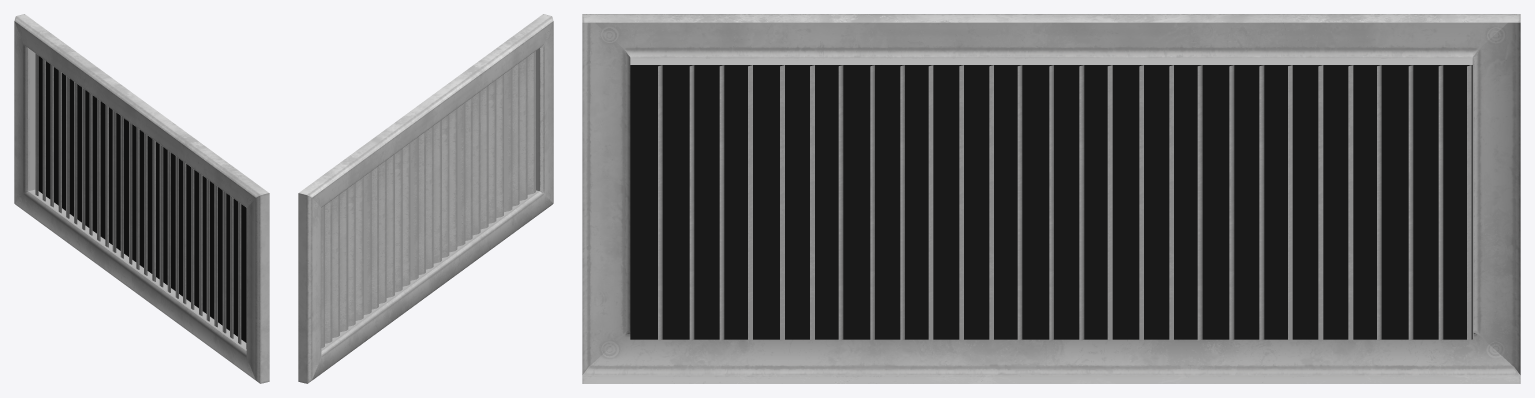
Rendered from SM_WallVent.fbx.
The picture shows the model from 3 angles, left to right: view 1: azimuth 30°, elevation 25°; view 2: azimuth 150°, elevation 25°; view 3: azimuth 270°, elevation 25°; orthographic projection. The views are drawn at different scales.
Visible parts, largest first — view 1: SM_WallVent_LOD0; view 2: SM_WallVent_LOD0; view 3: SM_WallVent_LOD0.
Boxes of the visible parts, box(x1,y1,x2,y2) form: SM_WallVent_LOD0: box(14, 14, 269, 383); SM_WallVent_LOD0: box(298, 14, 553, 383); SM_WallVent_LOD0: box(582, 14, 1520, 383).
Bounding box in the file's own units: 2.17 × 74.46 × 31.65.
Materials: 1 (1 with a texture image).
